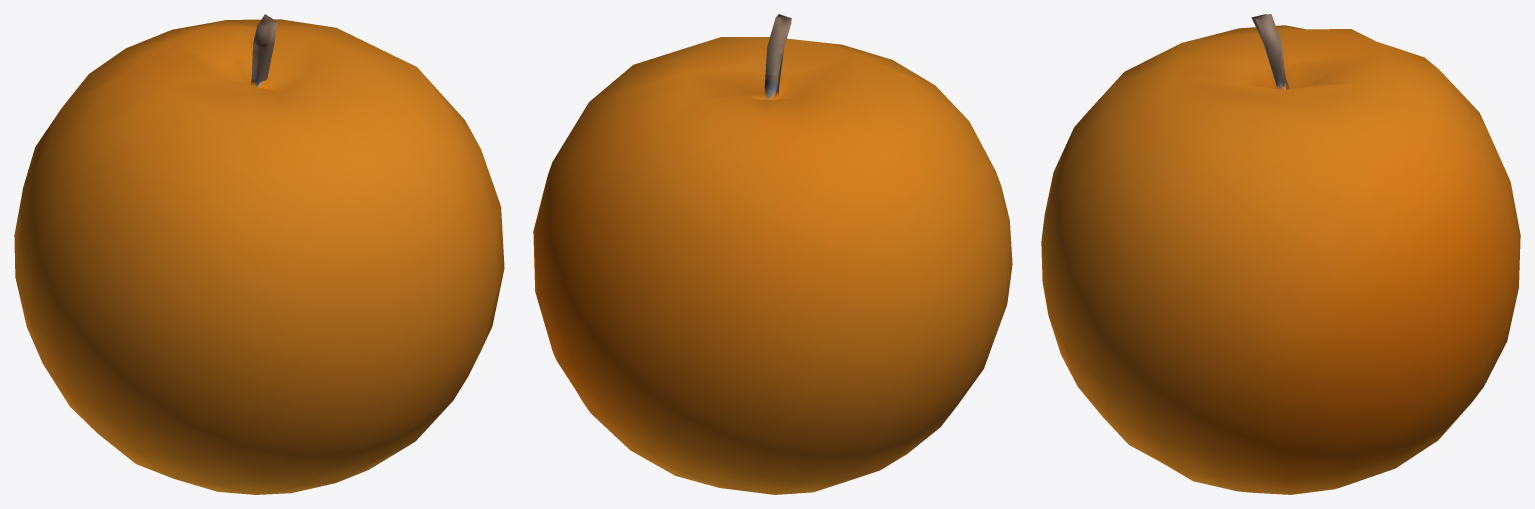
Rendered from orange-model-300T.fbx.
3 views of the same model, side by side, from view 1: azimuth 30°, elevation 25°; view 2: azimuth 150°, elevation 25°; view 3: azimuth 270°, elevation 25° (orthographic). The views are drawn at different scales.
Parts seen in each view (by area): view 1: tripo_node_dc798c91; view 2: tripo_node_dc798c91; view 3: tripo_node_dc798c91.
Part boxes in pixels (bbox=[...]): tripo_node_dc798c91: bbox=[14, 14, 504, 494]; tripo_node_dc798c91: bbox=[533, 14, 1012, 494]; tripo_node_dc798c91: bbox=[1041, 14, 1520, 494].
Bounding box in the file's own units: 0.9825 × 0.9979 × 0.9645.
1 material, 1 textured.
